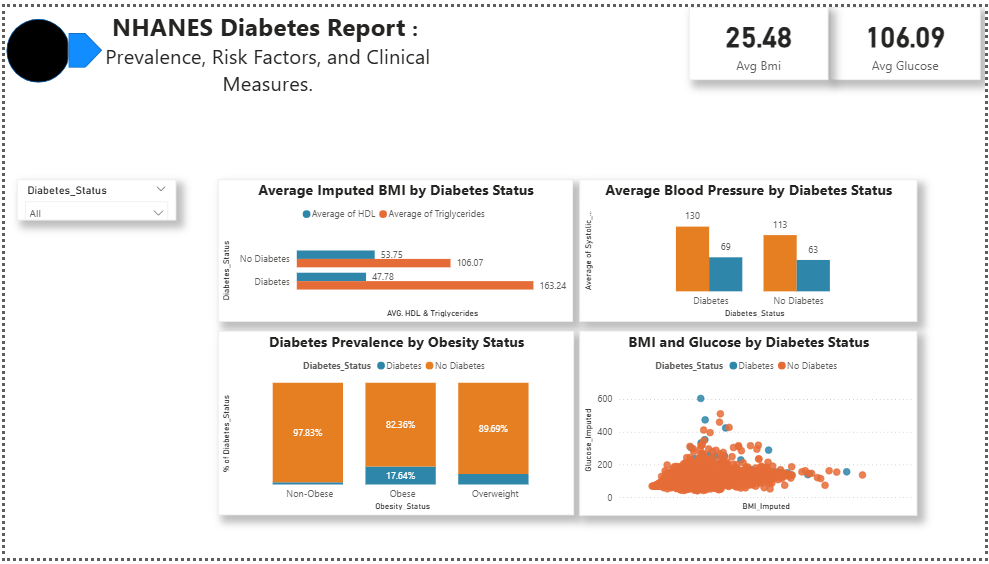

Layout of this report page (visuals, bound fields, positions):
{"tool":"powerbi","page":{"name":"Clinical Indicators","canvas":[1280,720],"ordinal":2},"visuals":[{"type":"clusteredBarChart","title":"Average Imputed BMI by Diabetes Status","fields":{"Category":["diabetes_analysis.Diabetes_Status"],"Y":["Avg(diabetes_analysis.HDL)","Avg(diabetes_analysis.Triglycerides)"]},"box":[278.5,226.3,464.1,186.2],"z":0},{"type":"hundredPercentStackedColumnChart","title":"Diabetes Prevalence by Obesity Status","fields":{"Category":["diabetes_analysis.Obesity_Status"],"Y":["measure.% of Diabetes_Status"],"Series":["diabetes_analysis.Diabetes_Status"]},"box":[278.5,424,465.5,240.6],"z":1000},{"type":"clusteredColumnChart","title":"Average Blood Pressure by Diabetes Status","fields":{"Category":["diabetes_analysis.Diabetes_Status"],"Y":["Avg(diabetes_analysis.Systolic_BP_Imputed)","Avg(diabetes_analysis.Diastolic_BP_Imputed)"]},"box":[751.2,226.3,441.2,186.2],"z":2000},{"type":"card","fields":{"Values":["measure.Avg Glucose"]},"box":[1079.3,1,196.7,95.1],"z":3000},{"type":"textbox","box":[92.4,-1.2,502.4,148.8],"z":4000,"group":"g2"},{"type":"card","fields":{"Values":["measure.Avg Bmi"]},"box":[894,1,182,95.1],"z":4000},{"type":"group","id":"g1","title":"Group 1","box":[1.5,16.8,126.1,83.1],"z":5000,"group":"g2"},{"type":"slicer","fields":{"Values":["diabetes_analysis.Diabetes_Status"]},"box":[16.1,225.8,208.1,53.2],"z":5000},{"type":"group","id":"g2","title":"Group 2","box":[1.5,-1.2,593.4,148.8],"z":6000},{"type":"scatterChart","title":"BMI and Glucose by Diabetes Status","fields":{"X":["diabetes_analysis.BMI_Imputed"],"Y":["diabetes_analysis.Glucose_Imputed"],"Series":["diabetes_analysis.Diabetes_Status"]},"box":[750.4,424.3,441.3,241.2],"z":7000},{"type":"shape","box":[1.5,16.8,83.1,83.1],"z":8000,"group":"g1"},{"type":"shape","box":[81.7,35.4,45.8,47.3],"z":9000,"group":"g1"}]}

Visuals, with their boxes in screenshot pixels (x1, y1, x2, y2), scaled from the page's 1280x720 canvas onto the 989x564 screenshot:
"Average Imputed BMI by Diabetes Status" clusteredBarChart: (215,177,574,323)
"Diabetes Prevalence by Obesity Status" hundredPercentStackedColumnChart: (215,332,575,521)
"Average Blood Pressure by Diabetes Status" clusteredColumnChart: (580,177,921,323)
card - measure.Avg Glucose: (834,1,986,75)
textbox: (71,0,460,116)
card - measure.Avg Bmi: (691,1,831,75)
"Group 1" group: (1,13,99,78)
slicer - diabetes_analysis.Diabetes_Status: (12,177,173,219)
"Group 2" group: (1,0,460,116)
"BMI and Glucose by Diabetes Status" scatterChart: (580,332,921,521)
shape: (1,13,65,78)
shape: (63,28,99,65)
